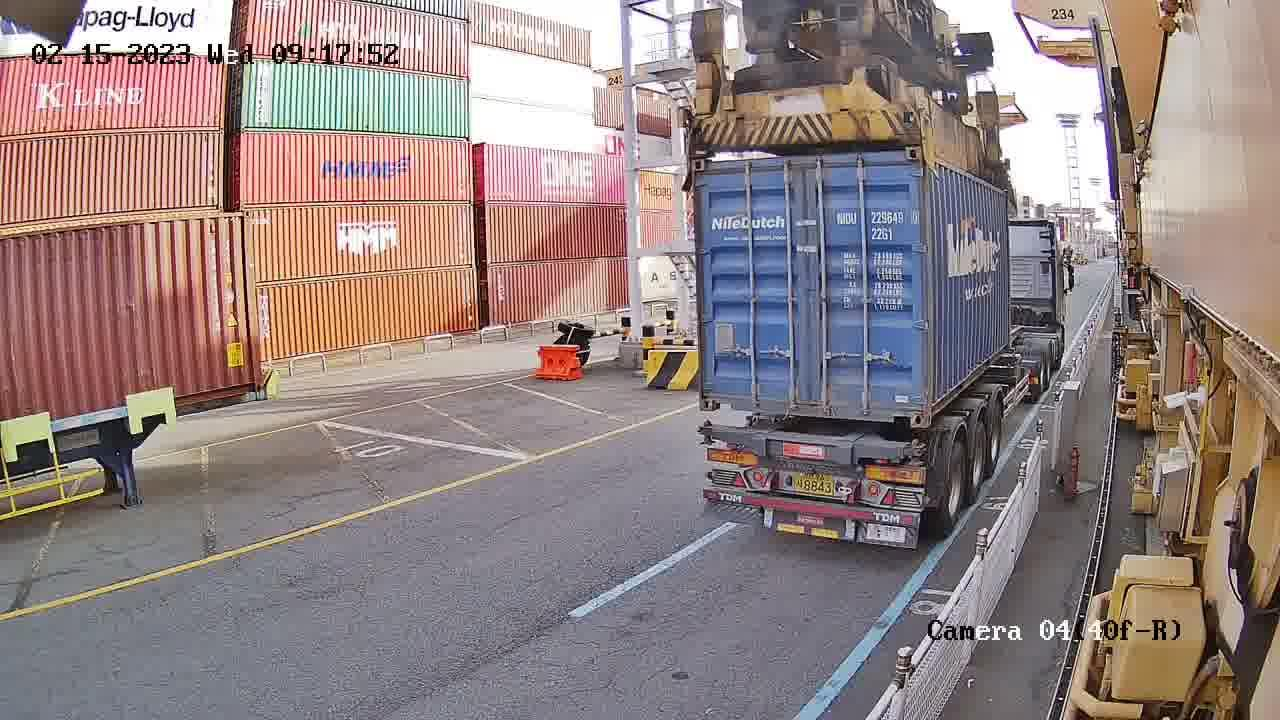Chassis: (705, 427, 915, 464)
Cone: (907, 437, 928, 463), (697, 417, 715, 443)
Hole_L: (700, 375, 736, 411)
Hole_R: (887, 386, 928, 427)
Tire: (944, 437, 968, 527), (985, 401, 1005, 458), (972, 424, 988, 494)
